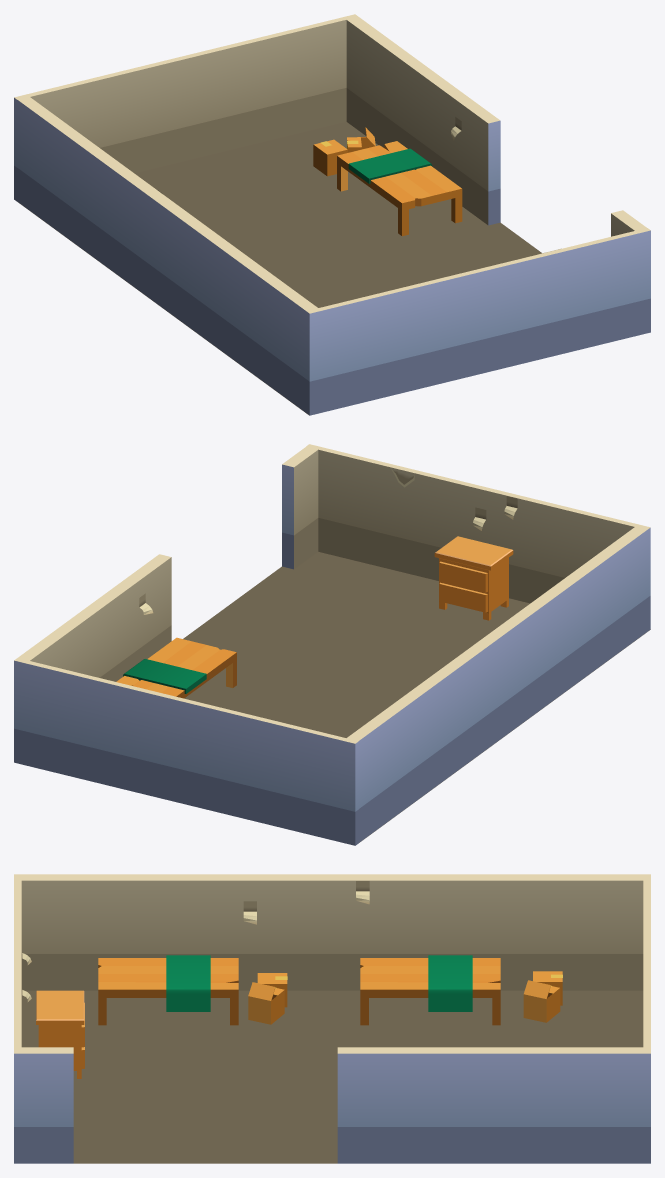
Rendered from Barrack_Lv1_a_Left.fbx.
3 views of the same model, one above another, from view 1: azimuth 30°, elevation 25°; view 2: azimuth 150°, elevation 25°; view 3: azimuth 270°, elevation 25° (orthographic). The views are drawn at different scales.
Visible parts, largest first — view 1: Barrack_Lv1_a_Left4, Barrack_Lv1_a_Left6, Barrack_Lv1_a_Left11, Barrack_Lv1_a_Left18, Barrack_Lv1_a_Left23, Barrack_Lv1_a_Left26, Barrack_Lv1_a_Left3, Barrack_Lv1_a_Left19; view 2: Barrack_Lv1_a_Left18, Barrack_Lv1_a_Left11, Barrack_Lv1_a_Left6, Barrack_Lv1_a_Left4, Barrack_Lv1_a_Left23, Barrack_Lv1_a_Left17, Barrack_Lv1_a_Left26, Barrack_Lv1_a_Left19, Barrack_Lv1_a_Left5; view 3: Barrack_Lv1_a_Left6, Barrack_Lv1_a_Left11, Barrack_Lv1_a_Left23, Barrack_Lv1_a_Left24, Barrack_Lv1_a_Left25, Barrack_Lv1_a_Left19, Barrack_Lv1_a_Left17, Barrack_Lv1_a_Left4, Barrack_Lv1_a_Left18, Barrack_Lv1_a_Left7, Barrack_Lv1_a_Left13, Barrack_Lv1_a_Left5 (+2 smaller).
Boxes of the visible parts, x1,y1,x2,y2 form: Barrack_Lv1_a_Left4: (306,228,650,415); Barrack_Lv1_a_Left6: (16,97,321,415); Barrack_Lv1_a_Left11: (18,122,541,414); Barrack_Lv1_a_Left18: (14,14,358,201); Barrack_Lv1_a_Left23: (343,14,500,225); Barrack_Lv1_a_Left26: (337,141,462,236); Barrack_Lv1_a_Left3: (313,139,347,176); Barrack_Lv1_a_Left19: (611,210,650,334); Barrack_Lv1_a_Left18: (17,660,358,845); Barrack_Lv1_a_Left11: (183,552,650,842); Barrack_Lv1_a_Left6: (344,524,650,842); Barrack_Lv1_a_Left4: (306,444,650,631); Barrack_Lv1_a_Left23: (14,554,171,765); Barrack_Lv1_a_Left17: (434,536,513,620); Barrack_Lv1_a_Left26: (116,637,236,698); Barrack_Lv1_a_Left19: (282,444,321,569); Barrack_Lv1_a_Left5: (139,468,517,645); Barrack_Lv1_a_Left6: (14,874,650,990); Barrack_Lv1_a_Left11: (21,990,643,1163); Barrack_Lv1_a_Left23: (337,1047,650,1163); Barrack_Lv1_a_Left24: (98,955,238,1025); Barrack_Lv1_a_Left25: (360,955,500,1025); Barrack_Lv1_a_Left19: (14,1047,73,1163); Barrack_Lv1_a_Left17: (36,990,84,1078); Barrack_Lv1_a_Left4: (14,874,21,1163); Barrack_Lv1_a_Left18: (643,874,650,1162); Barrack_Lv1_a_Left7: (523,980,560,1022); Barrack_Lv1_a_Left13: (248,982,284,1024); Barrack_Lv1_a_Left5: (22,881,369,1001).
Bounding box in the file's own units: 701 × 201 × 1050.
